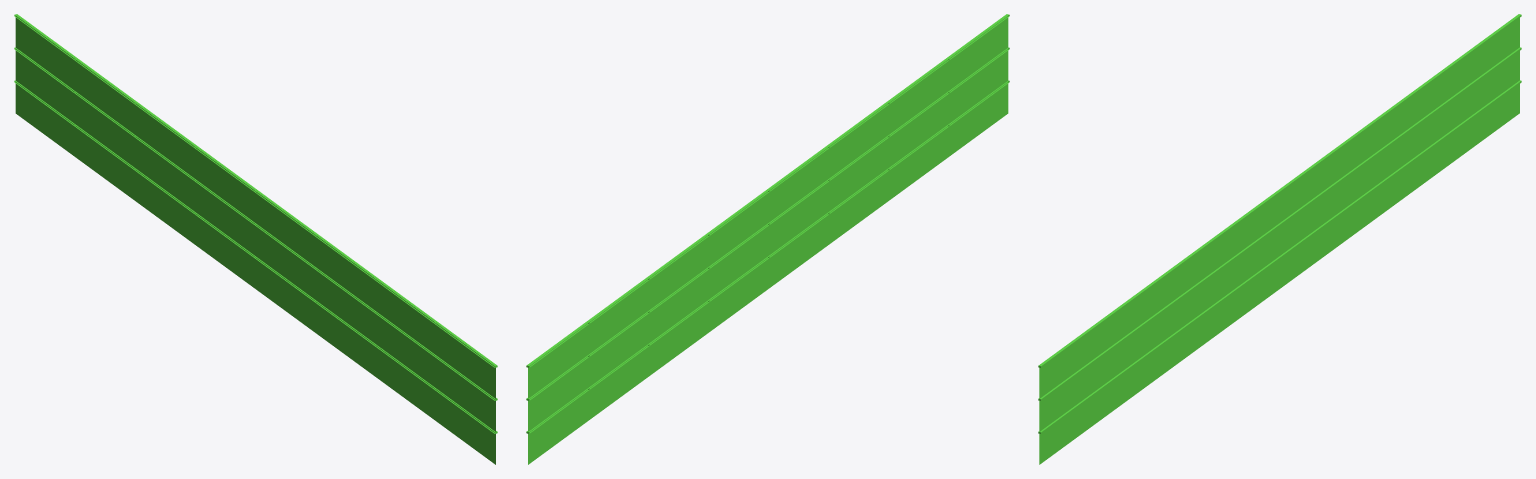
The model's file is Fachada con Alero.fbx.
The picture shows the model from 3 angles, left to right: view 1: azimuth 30°, elevation 25°; view 2: azimuth 150°, elevation 25°; view 3: azimuth 330°, elevation 25°; orthographic projection.
Parts seen in each view (by area): view 1: Cube.003; view 2: Cube.003; view 3: Cube.003.
Boxes of the visible parts, box(x1,y1,x2,y2) form: Cube.003: box(14, 14, 497, 464); Cube.003: box(526, 14, 1009, 464); Cube.003: box(1038, 14, 1521, 464).
Size of the model in its own units: 26.8 by 917 by 8056.
